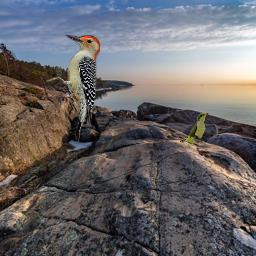Cuckoo: (180, 112, 209, 147)
Woodpecker: (46, 35, 100, 142)
